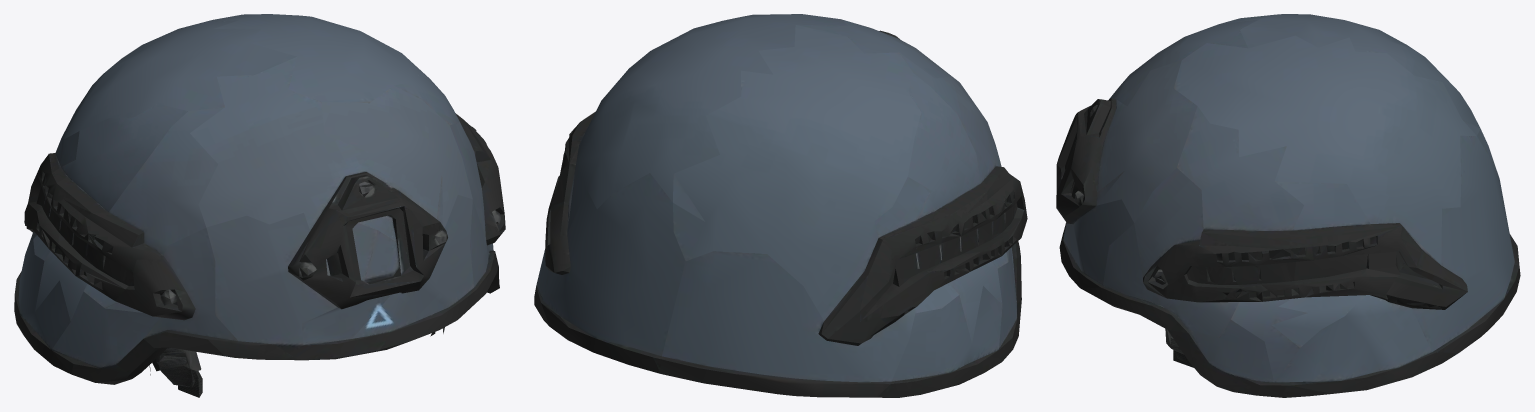
The model's file is vanta_helmet.glb.
3 views of the same model, side by side, from view 1: azimuth 30°, elevation 25°; view 2: azimuth 150°, elevation 25°; view 3: azimuth 270°, elevation 25° (orthographic). The views are drawn at different scales.
Parts seen in each view (by area): view 1: vanta_helmet; view 2: vanta_helmet; view 3: vanta_helmet.
Part boxes in pixels (x1=…): vanta_helmet: x1=14, y1=14, x2=505, y2=397; vanta_helmet: x1=534, y1=14, x2=1027, y2=397; vanta_helmet: x1=1056, y1=14, x2=1520, y2=397.
Bounding box in the file's own units: 0.2597 × 0.1641 × 0.2558.
1 material, 1 textured.
